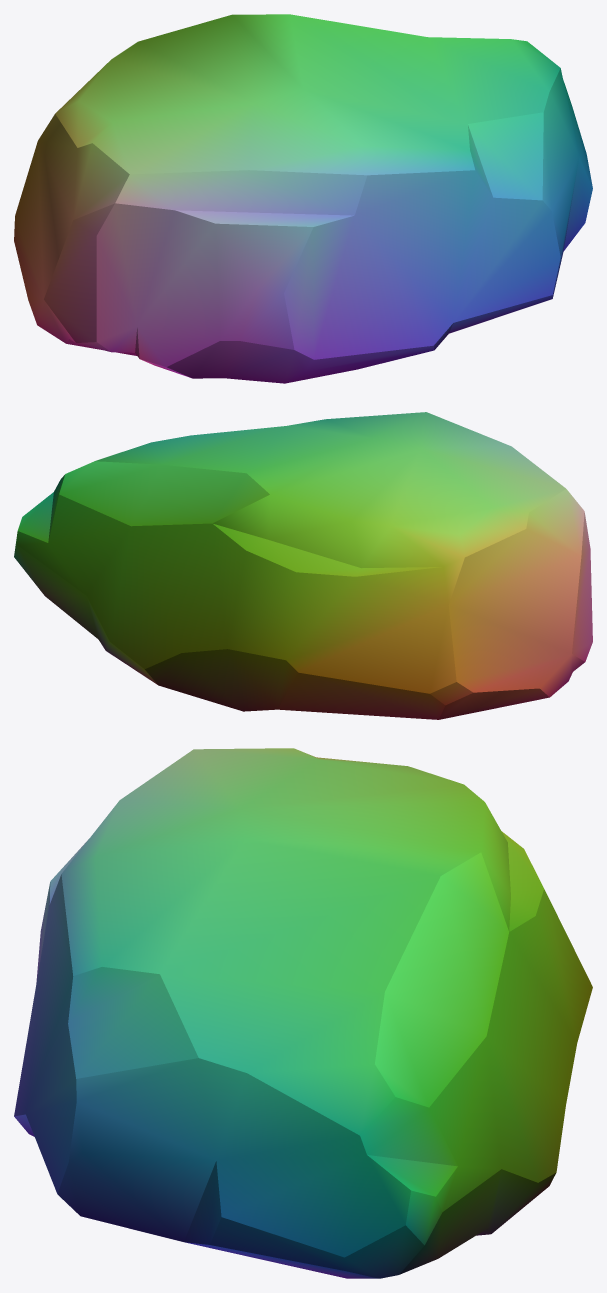
The picture shows the model from 3 angles, top to bottom: view 1: azimuth 30°, elevation 25°; view 2: azimuth 150°, elevation 25°; view 3: azimuth 270°, elevation 25°; orthographic projection. The views are drawn at different scales.
Parts seen in each view (by area): view 1: st_gc_031_lod0; view 2: st_gc_031_lod0; view 3: st_gc_031_lod0.
Boxes of the visible parts, <box> form: st_gc_031_lod0: <box>14,14,592,383</box>; st_gc_031_lod0: <box>14,412,592,719</box>; st_gc_031_lod0: <box>14,748,592,1278</box>.
Size of what is drawn, in the model's own units: 272 by 108 by 188.
